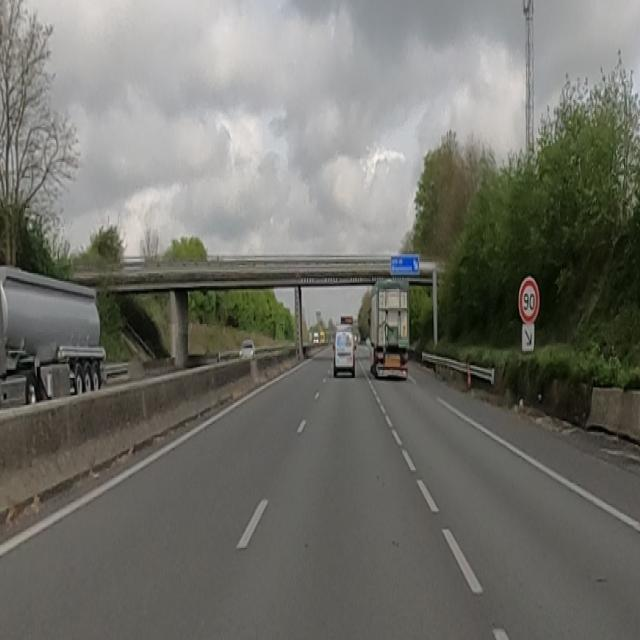speed_90: (520, 279, 539, 323)
